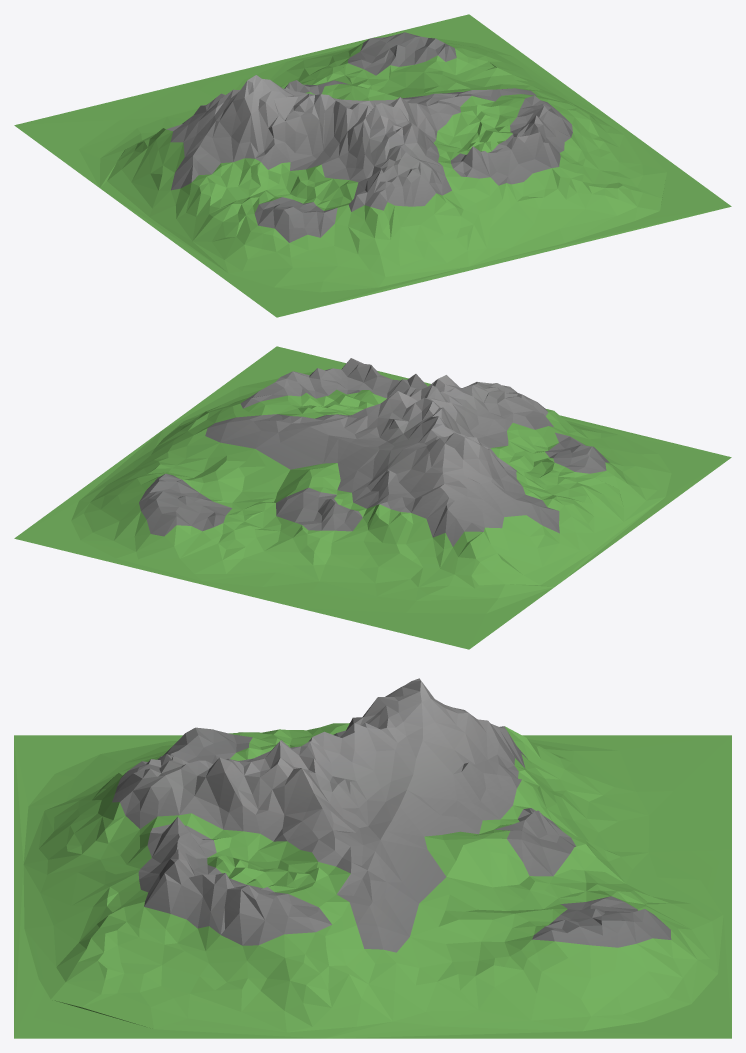
Rendered from SM_Nature_Landscape_05.fbx.
3 views of the same model, one above another, from view 1: azimuth 30°, elevation 25°; view 2: azimuth 150°, elevation 25°; view 3: azimuth 270°, elevation 25° (orthographic). The views are drawn at different scales.
Parts seen in each view (by area): view 1: SM_Nature_Landscape_05; view 2: SM_Nature_Landscape_05; view 3: SM_Nature_Landscape_05.
Part boxes in pixels (left/top/right/bottom): SM_Nature_Landscape_05: left=14, top=14, right=731, bottom=317; SM_Nature_Landscape_05: left=14, top=346, right=731, bottom=649; SM_Nature_Landscape_05: left=14, top=678, right=731, bottom=1038.
Bounding box in the file's own units: 100 × 21.54 × 100.
